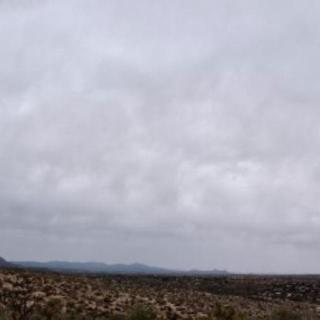Nimbostratus: (0, 0, 320, 266)
